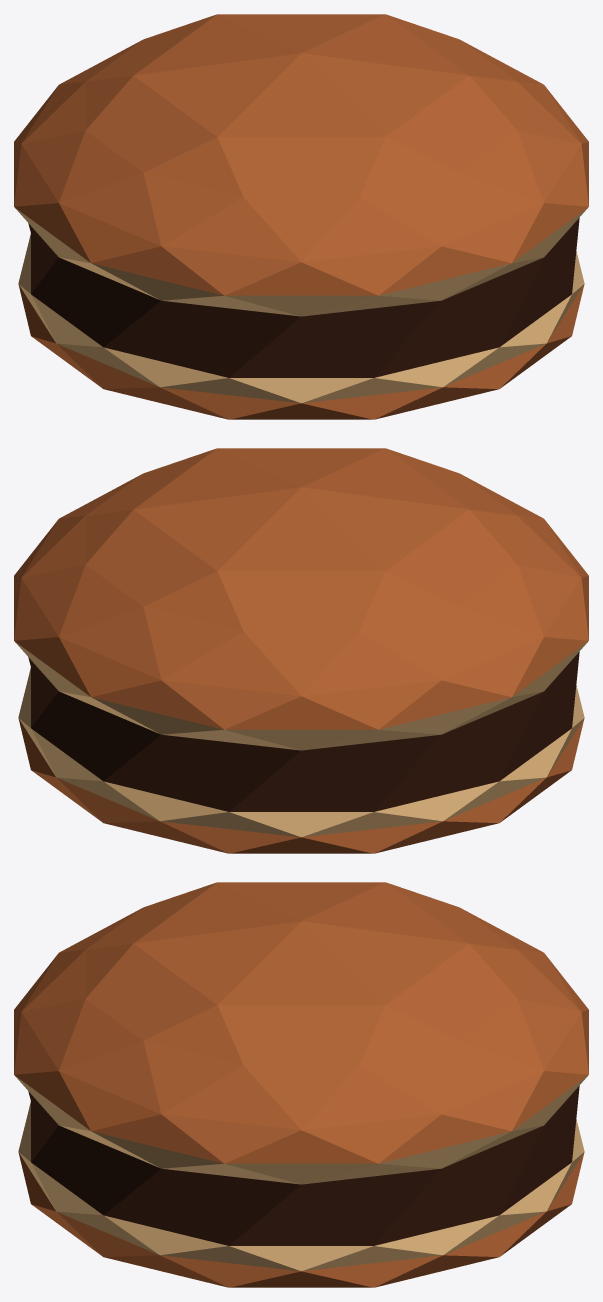
The model's file is dorayaki.fbx.
3 renders of one model, top to bottom at view 1: azimuth 30°, elevation 25°; view 2: azimuth 150°, elevation 25°; view 3: azimuth 270°, elevation 25°, orthographic.
Visible parts, largest first — view 1: dorayaki; view 2: dorayaki; view 3: dorayaki.
Part boxes in pixels (box(x1,y1,x2,y2)): dorayaki: box(14, 14, 588, 419); dorayaki: box(14, 448, 588, 853); dorayaki: box(14, 882, 588, 1287).
Size of the model in its own units: 8.48 by 4.76 by 8.48.
